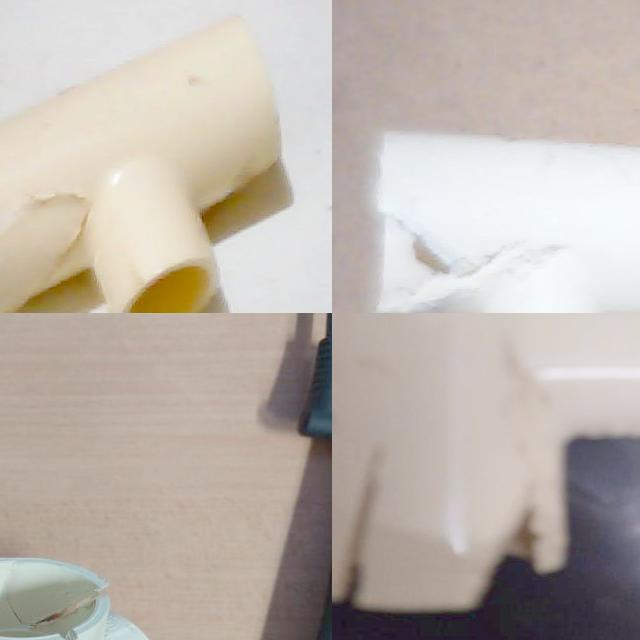Defective: (370, 176, 506, 313), (0, 177, 107, 313), (335, 442, 381, 602), (60, 570, 154, 640), (472, 510, 552, 592)
T Joint: (332, 313, 640, 617), (0, 15, 296, 313), (372, 130, 640, 313)
